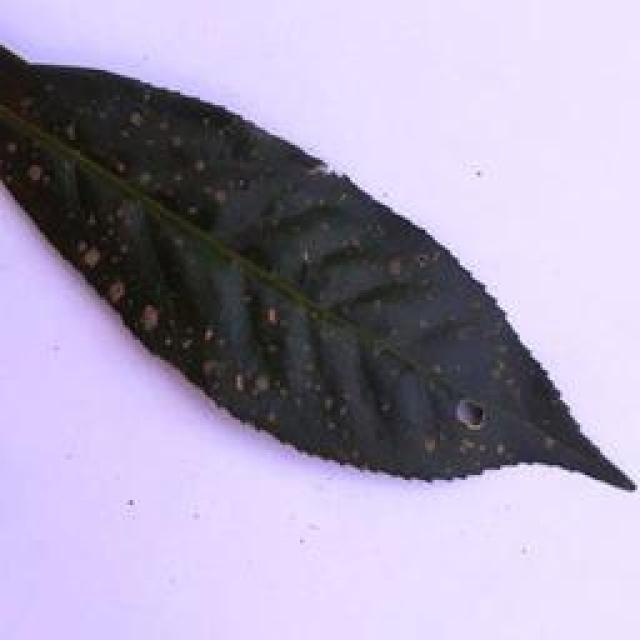Algal Leaf Spot: (22, 62, 635, 500)
